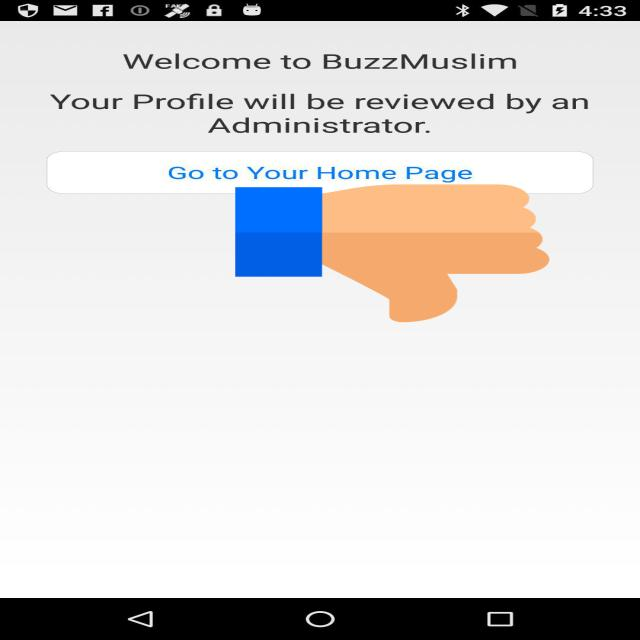obstruction: (236, 181, 550, 326)
